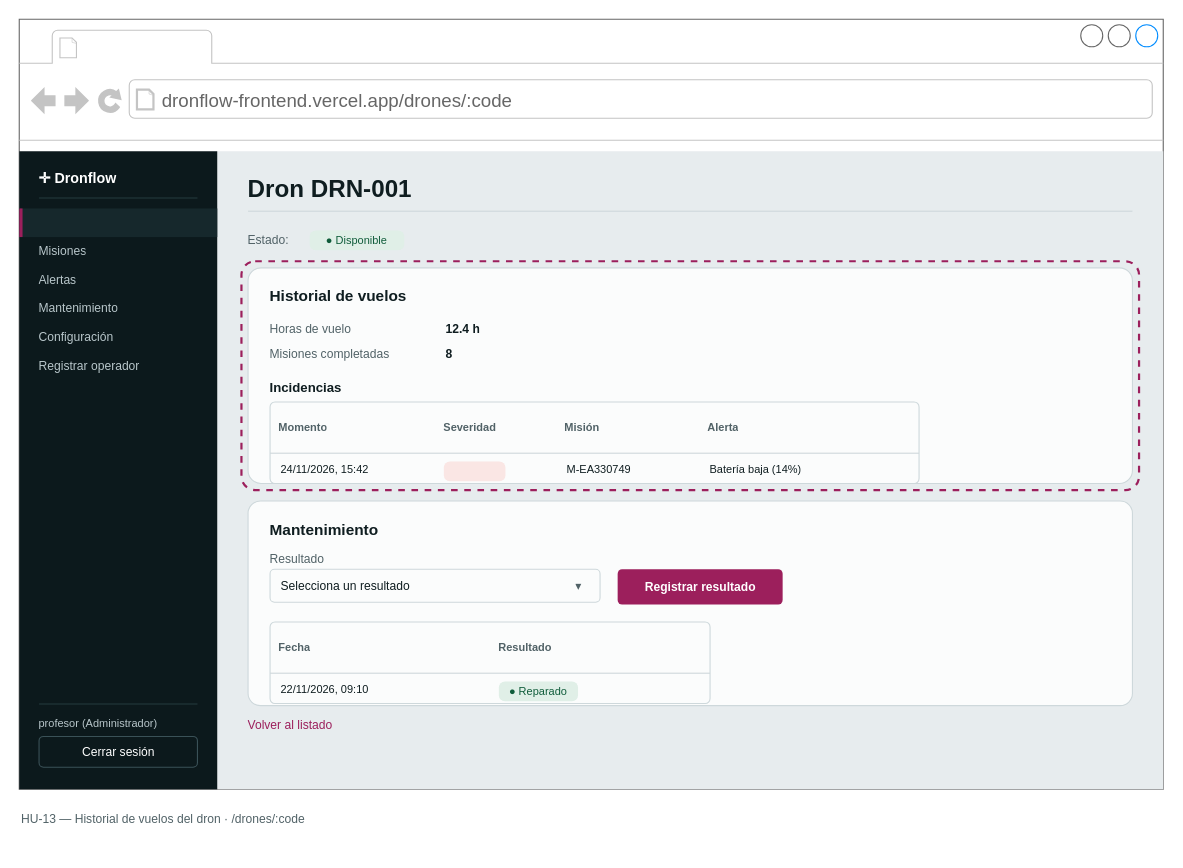
Some shapes in this 1183 by 868 pixel diagram are drawn without their labels. The shapes that lost their labels are listed below. From the top down, each one's centre as x and y in pixels, then its label:
the point at 118,222: Drones
the point at 474,471: ● Alta
